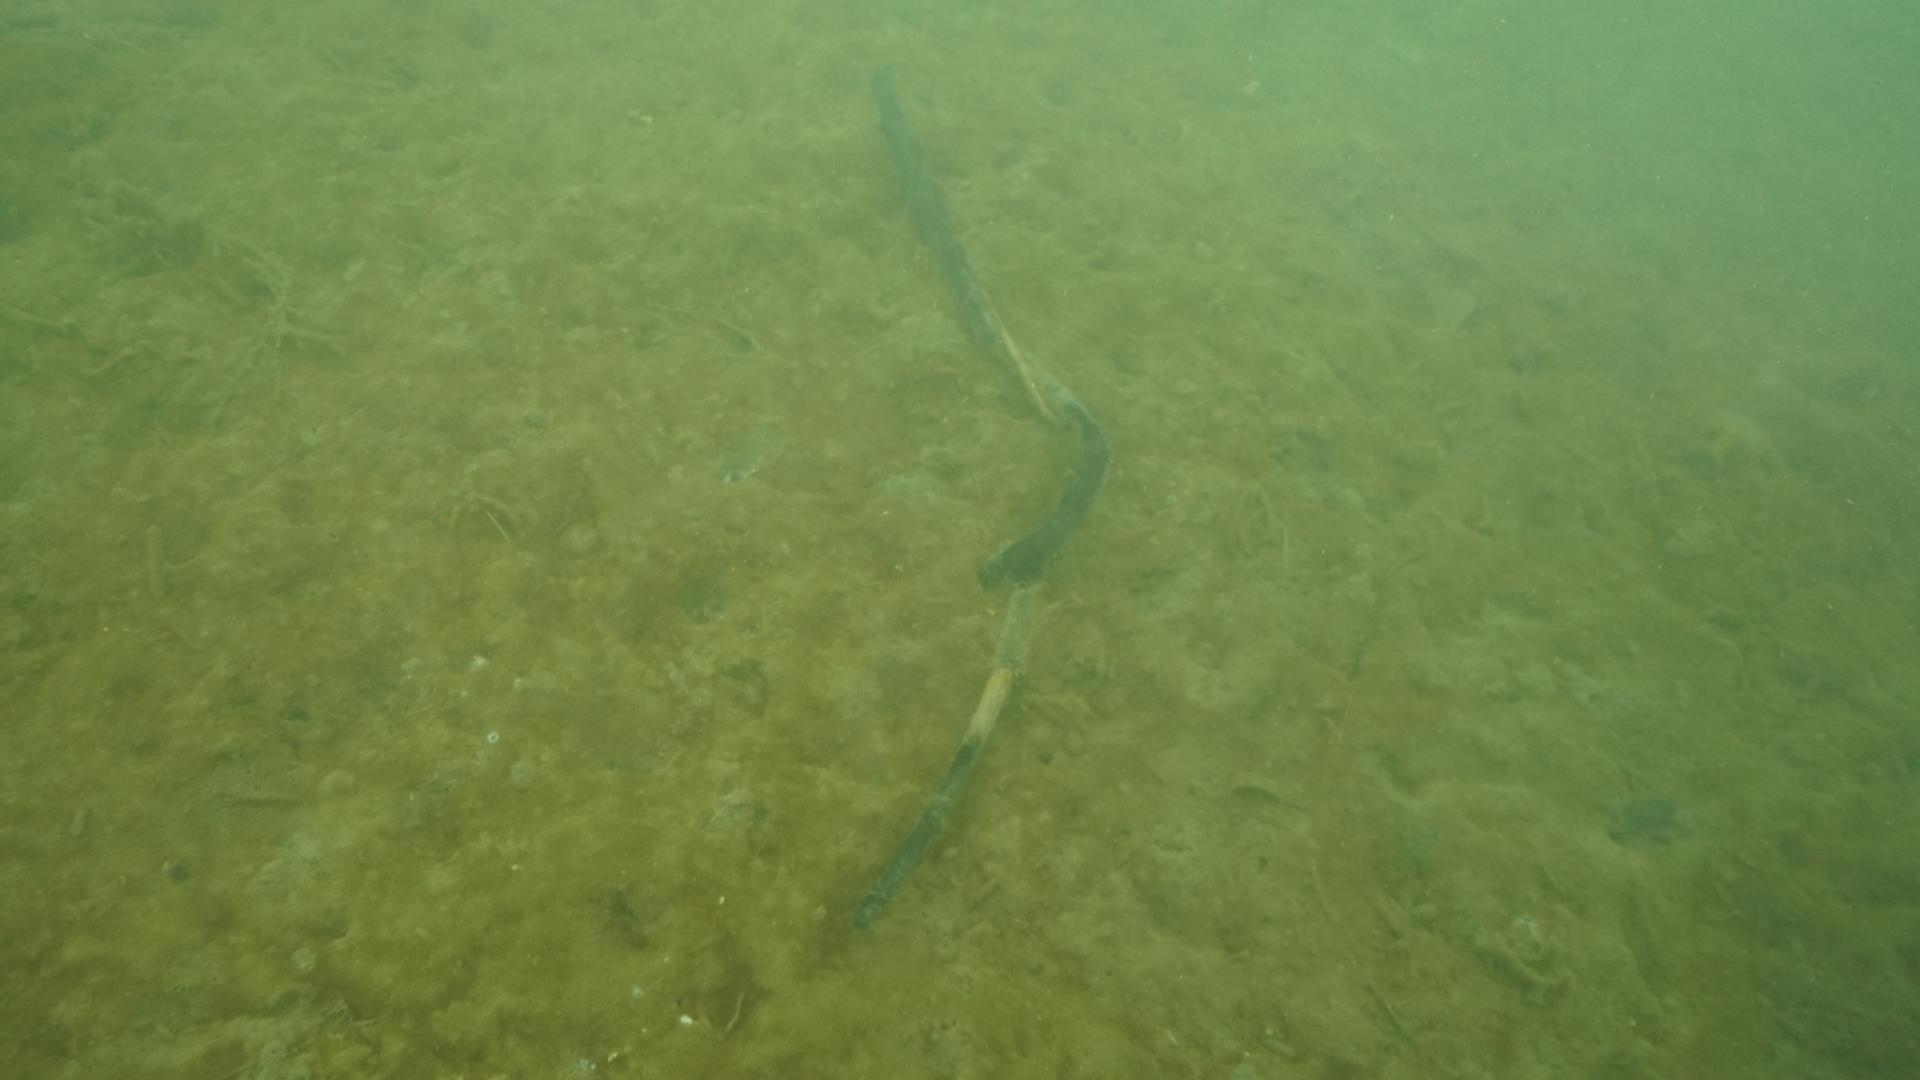wood: (793, 70, 1095, 975)
